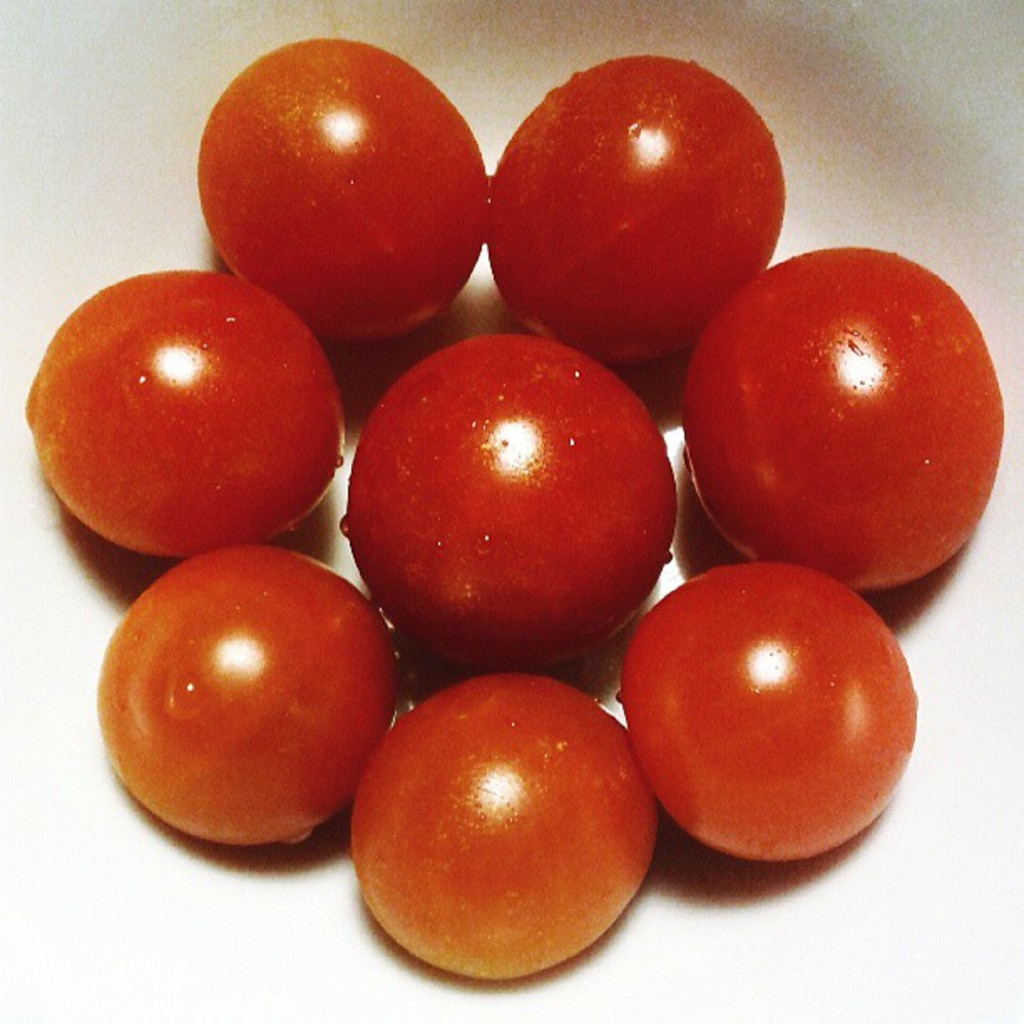Tomato: (25, 35, 1008, 863), (346, 659, 665, 988)
